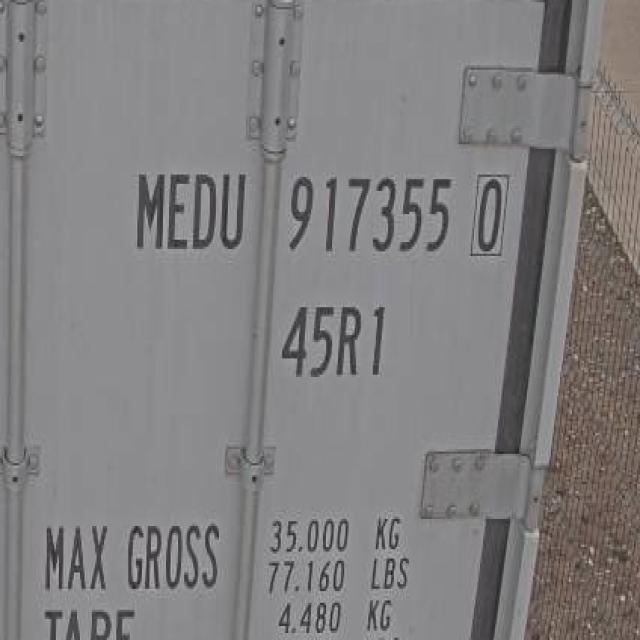dv: (469, 166, 510, 268)
owner: (122, 162, 250, 262)
serial: (284, 160, 456, 268)
size: (278, 295, 392, 384)
